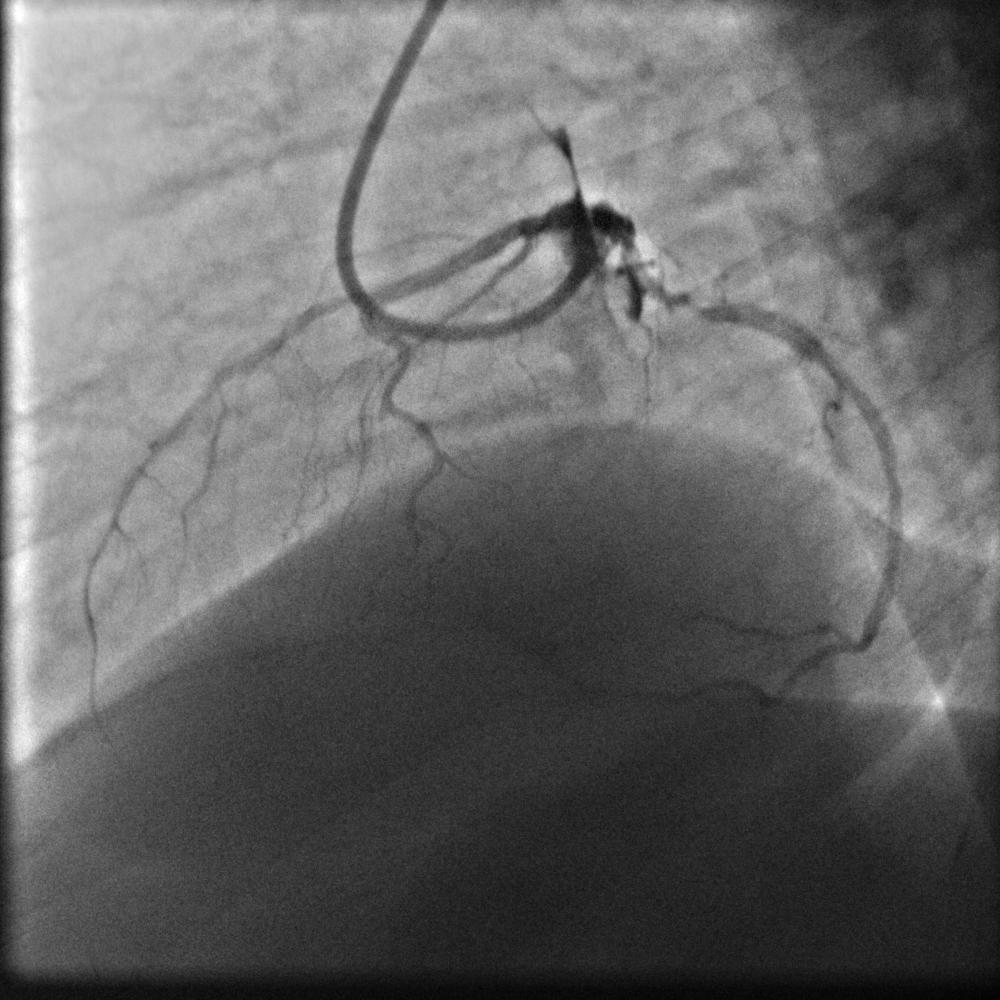Stenosis: (685, 287, 713, 324)
